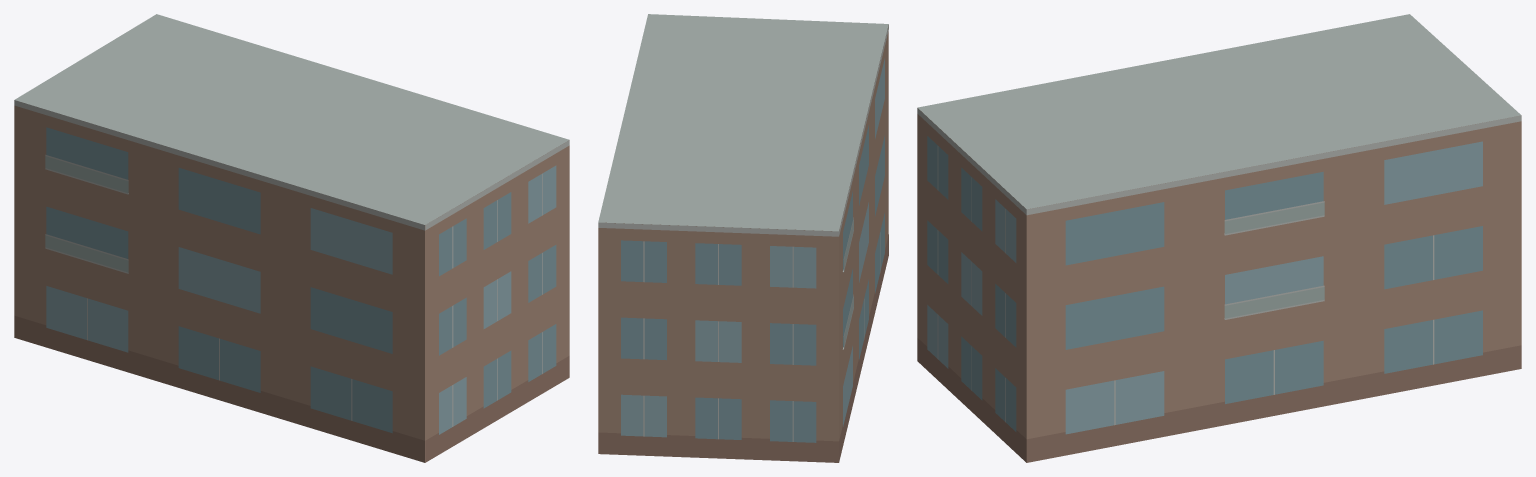
File: survey-upis-32731921.glb
3 views of the same model, side by side, from view 1: azimuth 30°, elevation 25°; view 2: azimuth 150°, elevation 25°; view 3: azimuth 270°, elevation 25° (orthographic). The views are drawn at different scales.
Visible parts, largest first — view 1: survey-upis-32731921.tmp; view 2: survey-upis-32731921.tmp; view 3: survey-upis-32731921.tmp.
Boxes of the visible parts, bbox=[...] form: survey-upis-32731921.tmp: bbox=[14, 14, 569, 462]; survey-upis-32731921.tmp: bbox=[598, 14, 888, 462]; survey-upis-32731921.tmp: bbox=[917, 14, 1521, 462].
Bounding box in the file's own units: 17.37 × 10.5 × 22.7.
